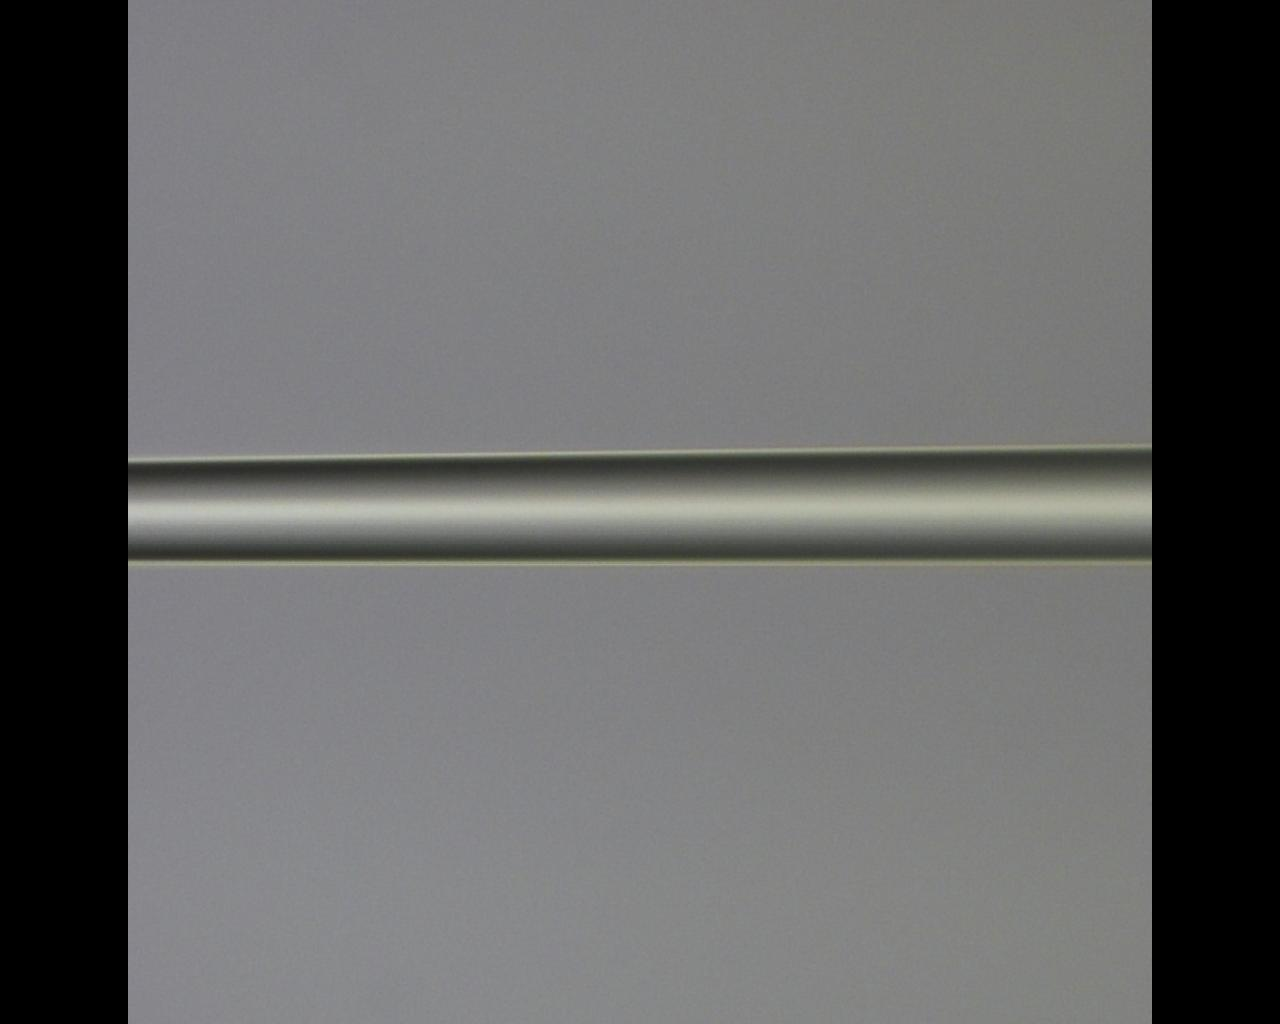fiber: (0, 467, 588, 937), (802, 409, 1087, 1024), (888, 0, 1046, 409), (0, 147, 588, 167)
